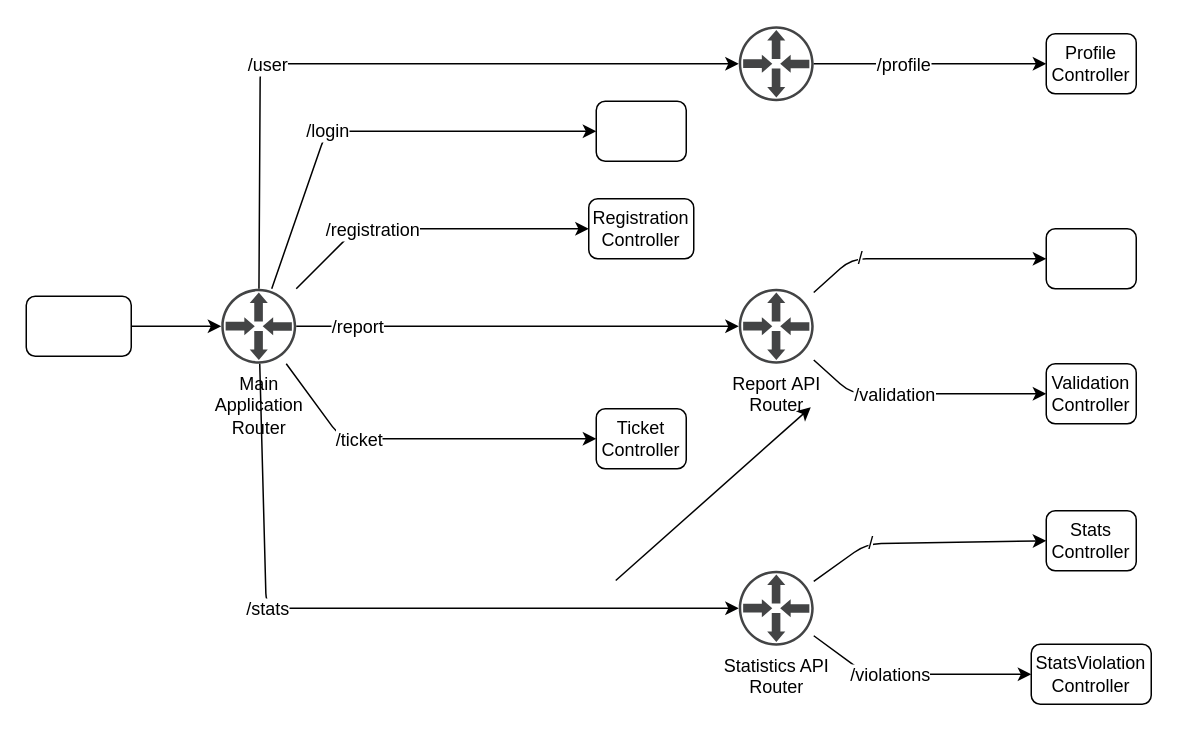
Image size: 1178x731. Some labels were removed from this diagram. Here are the shapes that lost their labels. From the top down, the box of each, then its label:
(738, 26, 813, 100): User API Router
(595, 100, 686, 161): Login Controller
(1045, 227, 1136, 289): Report Controller
(25, 295, 131, 356): Client Request
